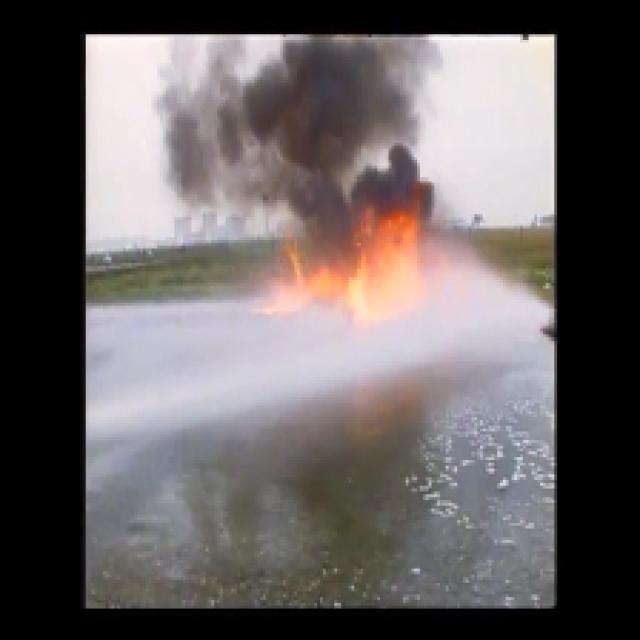smoke: (160, 41, 413, 176)
